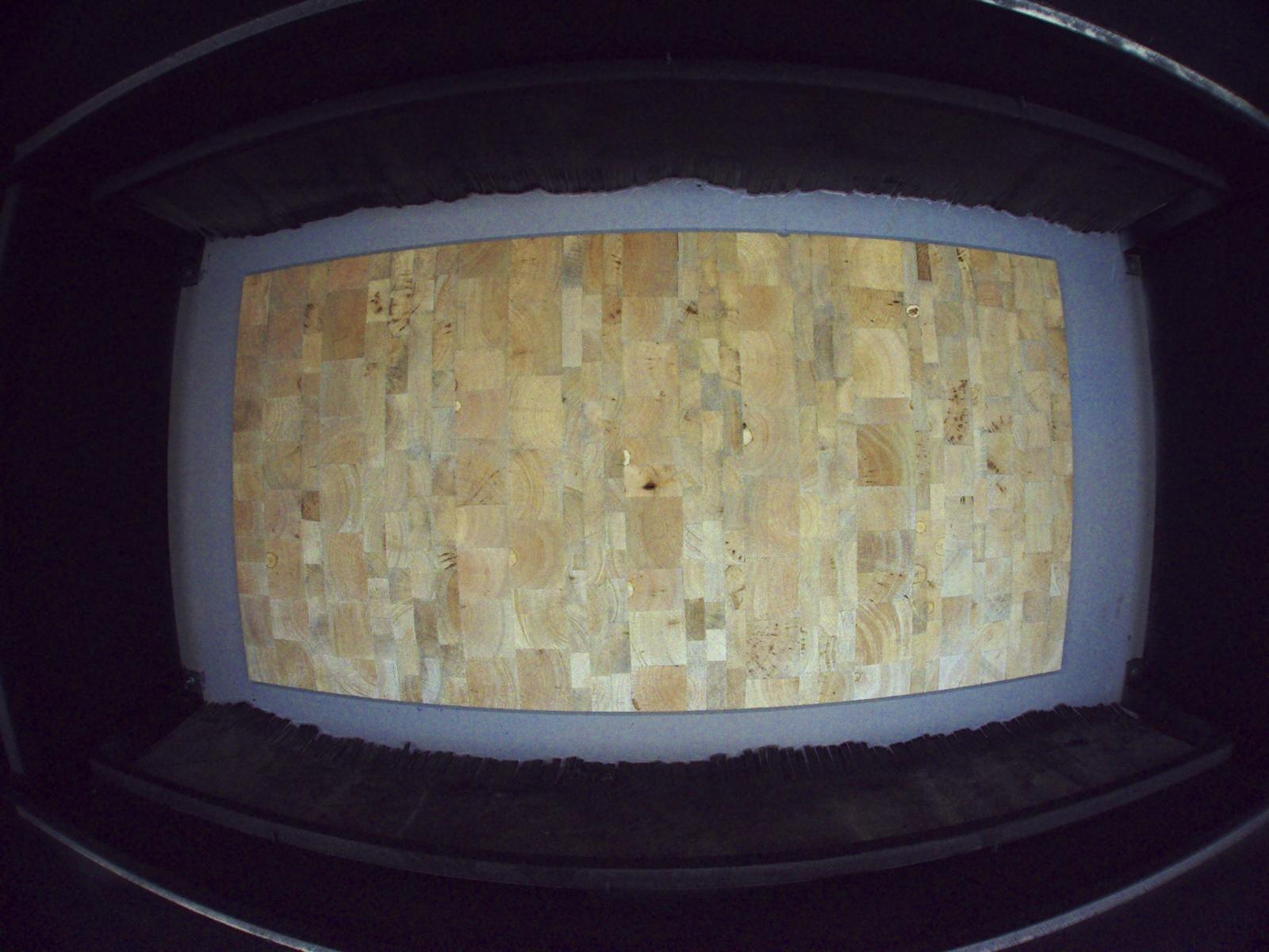sheck_ecuatoriano: (641, 476, 658, 498)
